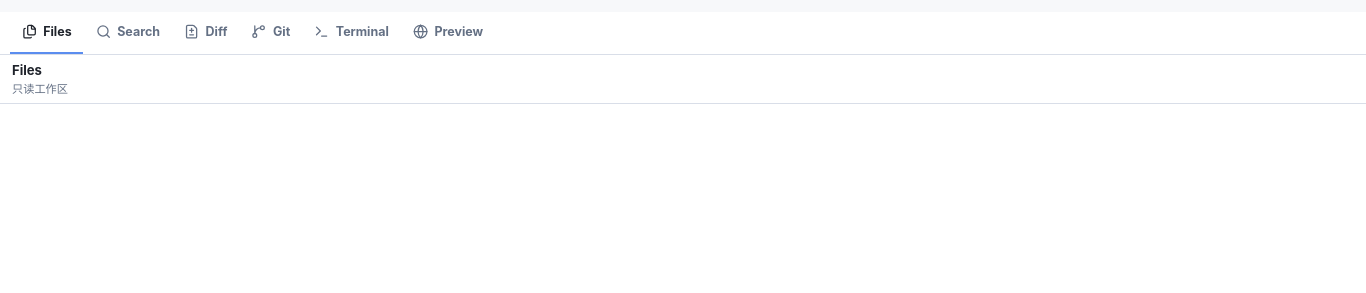
Test: JA Workbench native adapter composition › shows read-only Git status and the unparsed raw unified patch
The width and height of the screenshot is (1366, 293).
Step 1. Click the tab "Git" → (271, 33), box [240,12,302,54]
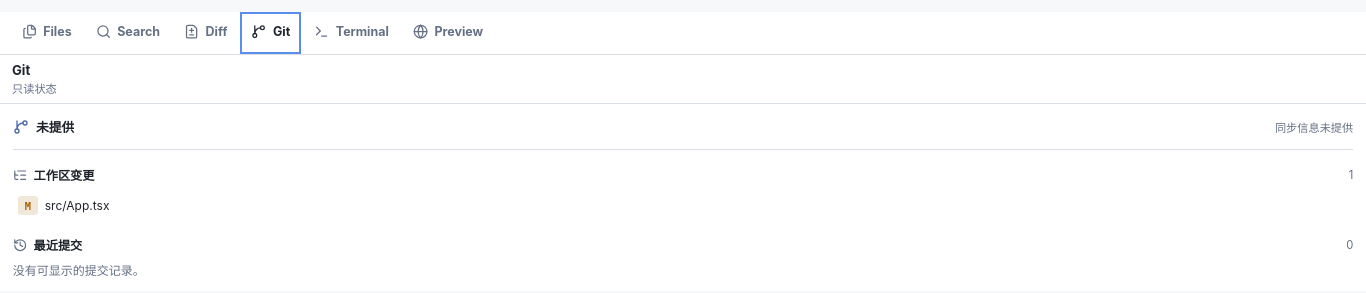
Now the button "M src/App.tsx" is shown
Step 2. Click the button "M src/App.tsx" → (64, 206), box [18,196,109,215]
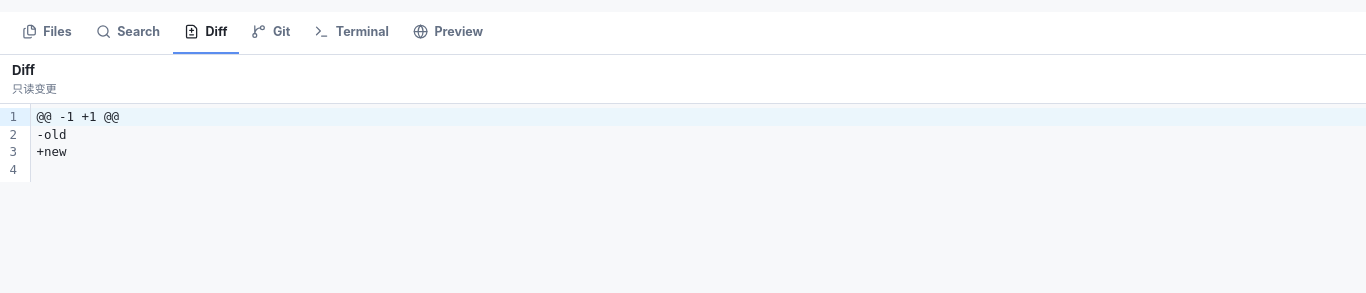
Now the element named "只读文件 src/App.tsx" is shown, box [0,104,1365,182]
